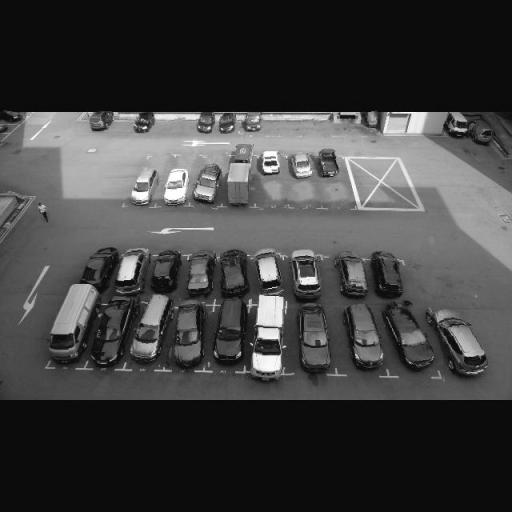busy: (38, 281, 100, 367), (246, 294, 294, 383), (385, 303, 441, 374), (438, 312, 492, 380), (129, 292, 177, 367), (166, 296, 212, 371), (342, 303, 390, 369), (209, 298, 250, 369), (294, 305, 336, 373), (287, 250, 326, 299), (368, 251, 406, 299), (334, 253, 372, 299), (190, 162, 224, 209), (218, 248, 249, 299), (114, 250, 148, 296), (252, 250, 286, 296), (181, 252, 214, 298), (126, 168, 159, 208), (150, 252, 181, 294), (162, 166, 192, 208), (315, 150, 343, 180), (288, 153, 317, 180), (443, 113, 474, 138), (257, 151, 285, 177), (468, 120, 495, 144), (214, 114, 238, 136), (86, 112, 112, 132), (195, 115, 215, 135), (132, 116, 154, 134), (242, 116, 265, 132), (361, 111, 380, 129), (0, 112, 26, 124)
free: (254, 178, 288, 212), (291, 180, 315, 209), (318, 183, 348, 206), (203, 150, 229, 172), (145, 150, 173, 170), (160, 118, 188, 135), (175, 154, 201, 170), (314, 118, 334, 136), (293, 119, 312, 132), (268, 121, 286, 133), (114, 122, 131, 134)
